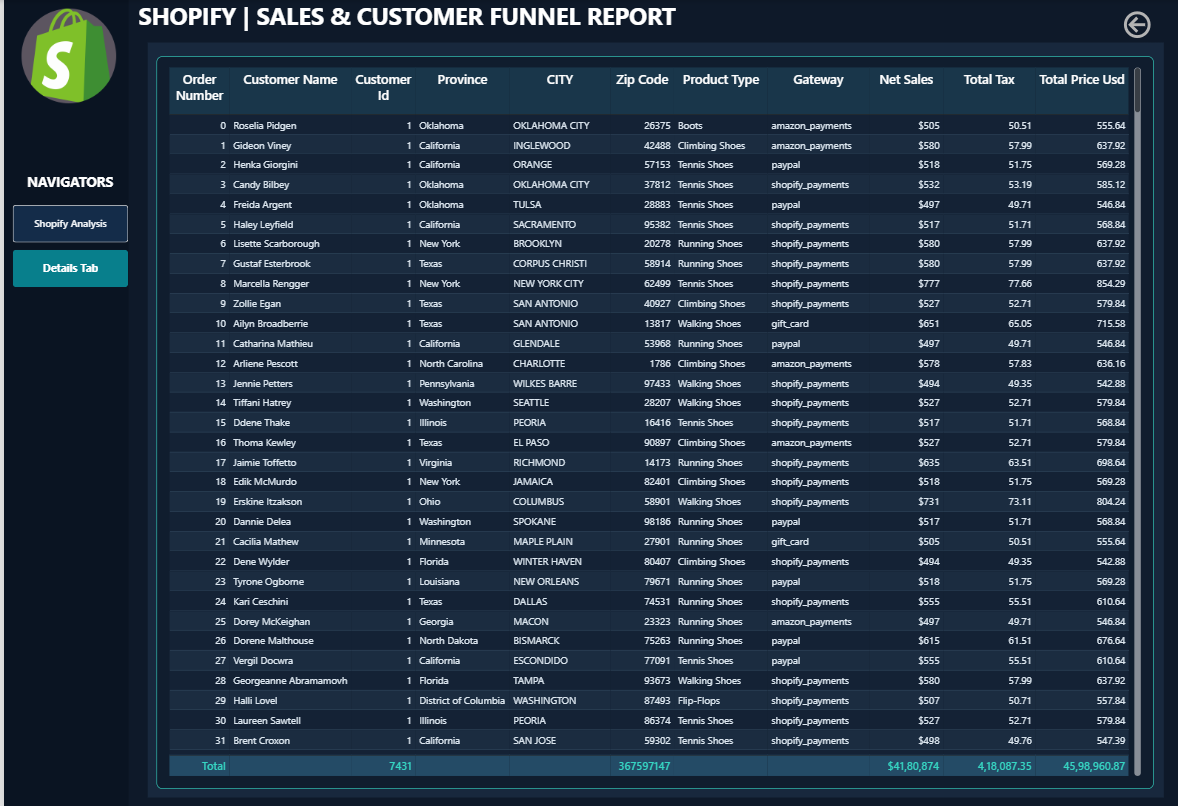

The dashboard page shown, as its layout file describes it:
{"tool":"powerbi","page":{"name":"Details Tab","canvas":[1600,1100],"ordinal":1},"visuals":[{"type":"shape","box":[0,0,169.8,1099.5],"z":0},{"type":"textbox","box":[169.5,0,760,58.3],"z":1000},{"type":"shape","box":[195.5,58.3,1382.5,1027.4],"z":2000},{"type":"image","box":[24,8.6,128.6,135.5],"z":3000},{"type":"tableEx","fields":{"Values":["shopify_sales.Order Number","shopify_sales.Customer Name","CountNonNull(shopify_sales.Customer Id)","shopify_sales.Billing Address Province","shopify_sales.CITY","Sum(shopify_sales.Billing Address Zip)","shopify_sales.Product Type","shopify_sales.Gateway","shopify_sales.Net Sales","Sum(shopify_sales.Total Tax)","Sum(shopify_sales.Total Price Usd)"]},"box":[207.5,77.2,1356.8,996.6],"z":4000},{"type":"actionButton","box":[1518,8.6,46.3,49.7],"z":4001},{"type":"pageNavigator","box":[12,279.6,157.8,113.2],"z":4002},{"type":"textbox","box":[10.3,235,159.5,44.6],"z":4003}]}

Visuals, with their boxes in screenshot pixels (x1, y1, x2, y2), scaled from the page's 1600x1100 canvas onto the 1178x806 screenshot:
shape: bbox(0, 0, 125, 805)
textbox: bbox(125, 0, 684, 43)
shape: bbox(144, 43, 1162, 796)
image: bbox(18, 6, 112, 106)
tableEx - shopify_sales.Order Number x shopify_sales.Customer Name: bbox(153, 57, 1152, 787)
actionButton: bbox(1118, 6, 1152, 43)
pageNavigator: bbox(9, 205, 125, 288)
textbox: bbox(8, 172, 125, 205)
